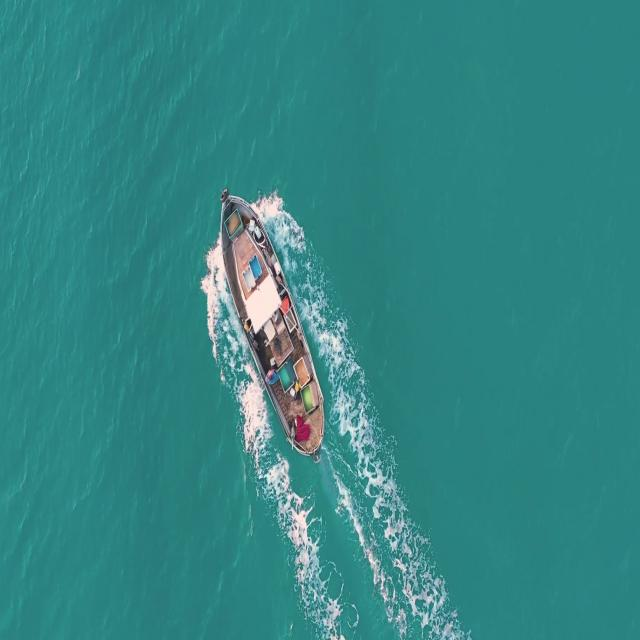ship: (218, 182, 328, 467)
